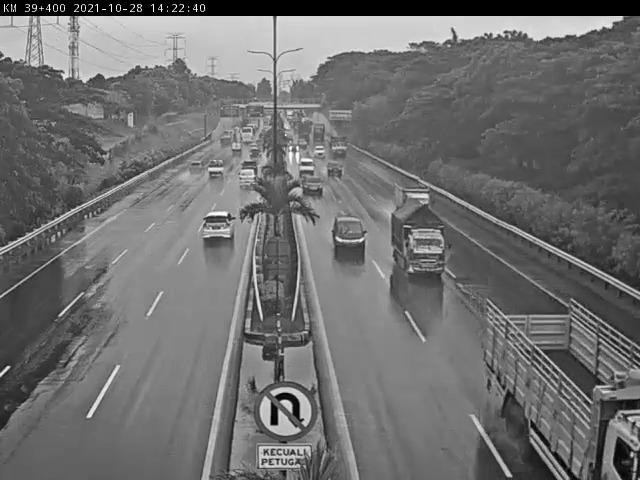big truck: (483, 302, 640, 480)
car: (331, 216, 369, 260), (392, 183, 436, 218), (200, 208, 238, 245), (233, 170, 257, 191), (297, 157, 318, 179), (303, 175, 324, 197), (206, 158, 225, 179), (327, 160, 344, 180), (188, 160, 204, 175), (311, 145, 328, 159)
small truck: (385, 200, 456, 280), (230, 141, 246, 155)
